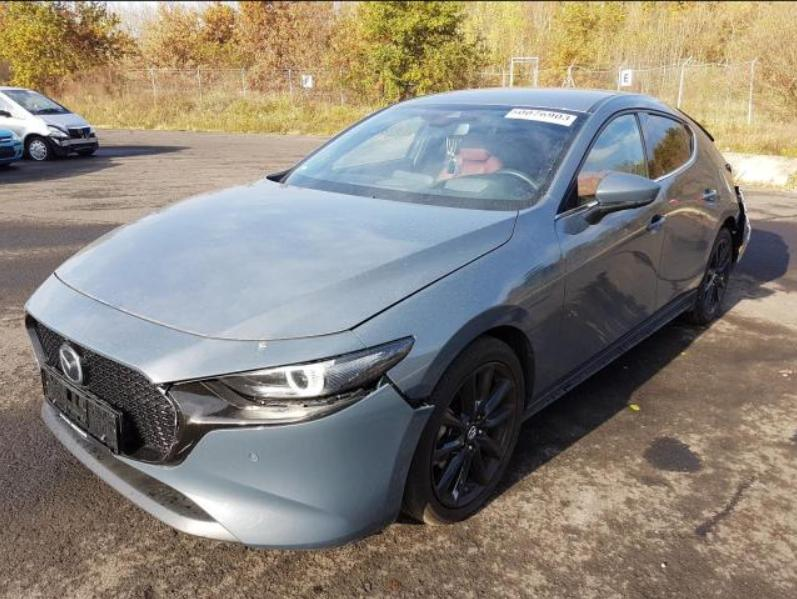Back-bumper: (738, 190, 751, 263)
Back-door: (636, 107, 721, 312)
Back-wheel: (683, 228, 732, 324)
Back-window: (639, 112, 692, 179)
Fender: (351, 210, 566, 405)
Front-bumper: (23, 272, 438, 550)
Front-door: (554, 107, 668, 382)
Front-wheel: (401, 336, 525, 524)
Front-window: (577, 112, 645, 196)
Grille: (33, 318, 187, 464)
Headlight: (159, 335, 415, 430)
Hood: (54, 178, 520, 340)
License-plate: (39, 362, 123, 457)
Mirror: (578, 171, 660, 225)
Quarter-panel: (697, 140, 739, 288)
Rocker-panel: (527, 287, 698, 420)
Roof: (395, 86, 650, 114)
Windshield: (279, 104, 590, 211)
